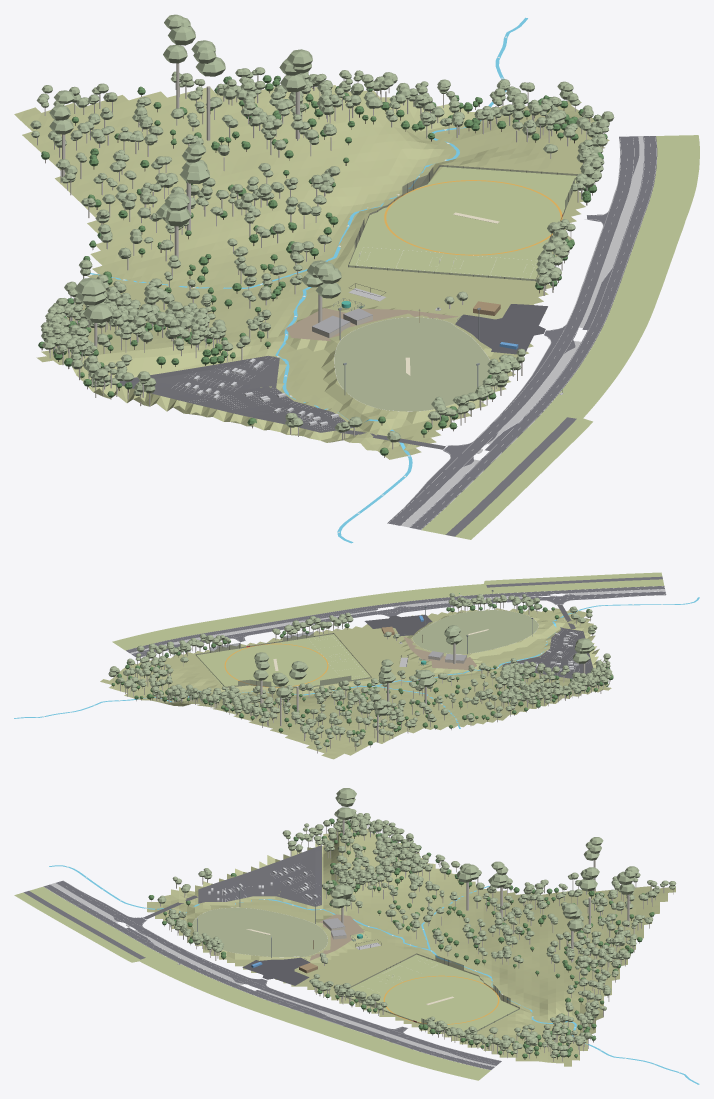
Rendered from KHFR_stage2_summer.glb.
The picture shows the model from 3 angles, top to bottom: view 1: azimuth 30°, elevation 25°; view 2: azimuth 150°, elevation 25°; view 3: azimuth 270°, elevation 25°; orthographic projection. The views are drawn at different scales.
Visible parts, largest first — view 1: Reserve terrain, Bushland forest (euc_can), Road reserve (far verge), field N flatgrass, Bush planting zones (euc_can), Existing Ground 1 (worn turf), Swansea Rd NE-bound (surveyed both edges), Giant eucalypts (canopies), New car park (~220), Swansea Rd SW-bound (2 lanes, smooth), Tennis precinct bush retained (euc_can), Bushland forest (wat_can) (+14 smaller); view 2: Reserve terrain, Bushland forest (euc_can), Road reserve (far verge), field N flatgrass, Bush planting zones (euc_can), Existing Ground 1 (worn turf), Giant eucalypts (canopies), Swansea Rd SW-bound (2 lanes, smooth), Tennis precinct bush retained (euc_can), Swansea Rd NE-bound (surveyed both edges), New car park (~220), Bushland forest (wat_can) (+11 smaller); view 3: Reserve terrain, Bushland forest (euc_can), Road reserve (far verge), field N flatgrass, Bush planting zones (euc_can), Existing Ground 1 (worn turf), New car park (~220), Swansea Rd NE-bound (surveyed both edges), Giant eucalypts (canopies), Tennis precinct bush retained (euc_can), Swansea Rd SW-bound (2 lanes, smooth), Bushland forest (wat_can) (+11 smaller).
Part boxes in pixels (x1,y1,x2,y2): Reserve terrain: (14,85,609,459); Bushland forest (euc_can): (30,71,400,442); Road reserve (far verge): (421,135,699,539); field N flatgrass: (348,166,576,281); Bush planting zones (euc_can): (216,67,614,416); Existing Ground 1 (worn turf): (334,317,490,411); Swansea Rd NE-bound (surveyed both edges): (387,136,639,525); Giant eucalypts (canopies): (49,14,312,323); New car park (~220): (120,355,353,432); Swansea Rd SW-bound (2 lanes, smooth): (409,136,657,529); Tennis precinct bush retained (euc_can): (40,296,233,387); Bushland forest (wat_can): (41,83,388,455); Reserve terrain: (100,608,611,759); Bushland forest (euc_can): (198,606,611,749); Road reserve (far verge): (112,572,664,650); field N flatgrass: (196,634,371,687); Bush planting zones (euc_can): (108,593,540,716); Existing Ground 1 (worn turf): (412,610,538,653); Giant eucalypts (canopies): (253,638,593,715); Swansea Rd SW-bound (2 lanes, smooth): (126,586,664,652); Tennis precinct bush retained (euc_can): (495,661,613,703); Swansea Rd NE-bound (surveyed both edges): (131,591,666,657); New car park (~220): (502,627,592,678); Bushland forest (wat_can): (230,609,603,745); Reserve terrain: (147,824,675,1066); Bushland forest (euc_can): (157,817,676,980); Road reserve (far verge): (14,886,490,1080); field N flatgrass: (343,954,519,1037); Bush planting zones (euc_can): (166,909,637,1057); Existing Ground 1 (worn turf): (192,907,327,957); New car park (~220): (198,845,321,906); Swansea Rd NE-bound (surveyed both edges): (56,880,501,1065); Giant eucalypts (canopies): (335,788,639,931); Tennis precinct bush retained (euc_can): (295,809,416,888); Swansea Rd SW-bound (2 lanes, smooth): (43,884,494,1069); Bushland forest (wat_can): (148,820,654,979).
Bounding box in the file's own units: 495 × 86.35 × 599.
